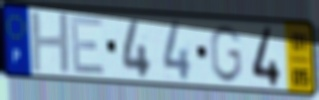4: (250, 24, 284, 89), (161, 18, 195, 83), (119, 17, 153, 80)
E: (69, 15, 107, 78)
G: (208, 23, 244, 85)
H: (29, 11, 74, 75)
